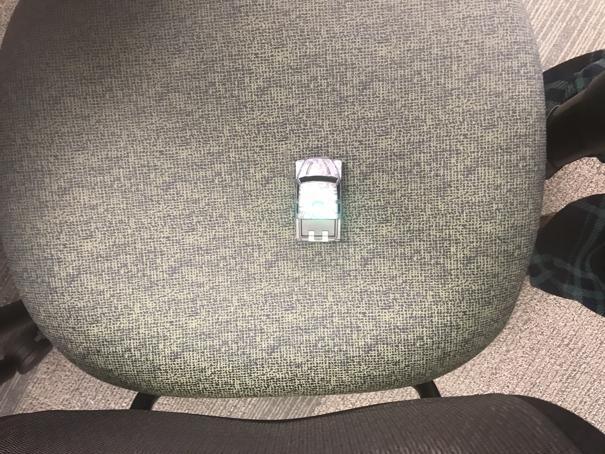MXT: (294, 156, 345, 243)
